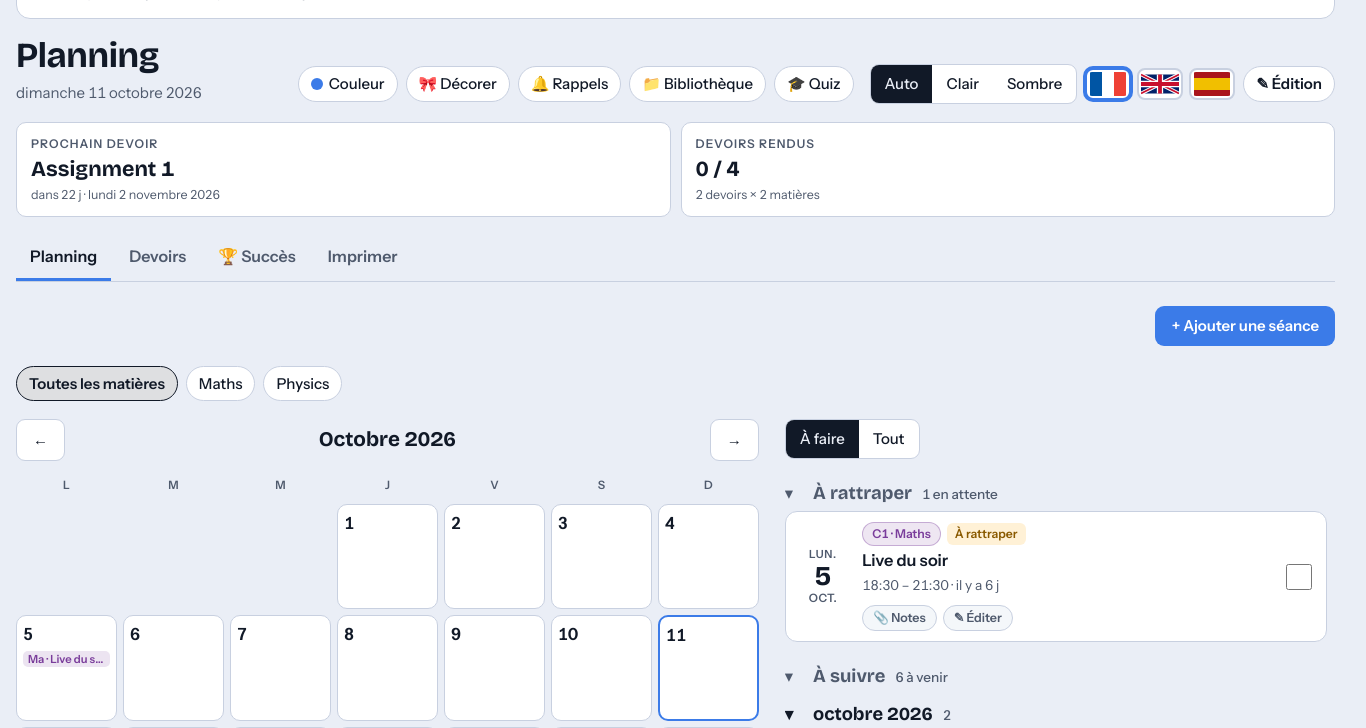
Test: planning › the subject filter narrows the list
(page scrolled)
What coordinates should you click on to do the following:
click the button "Physics"
I would click on:
 (303, 384)
Its box is [264,366,342,402].
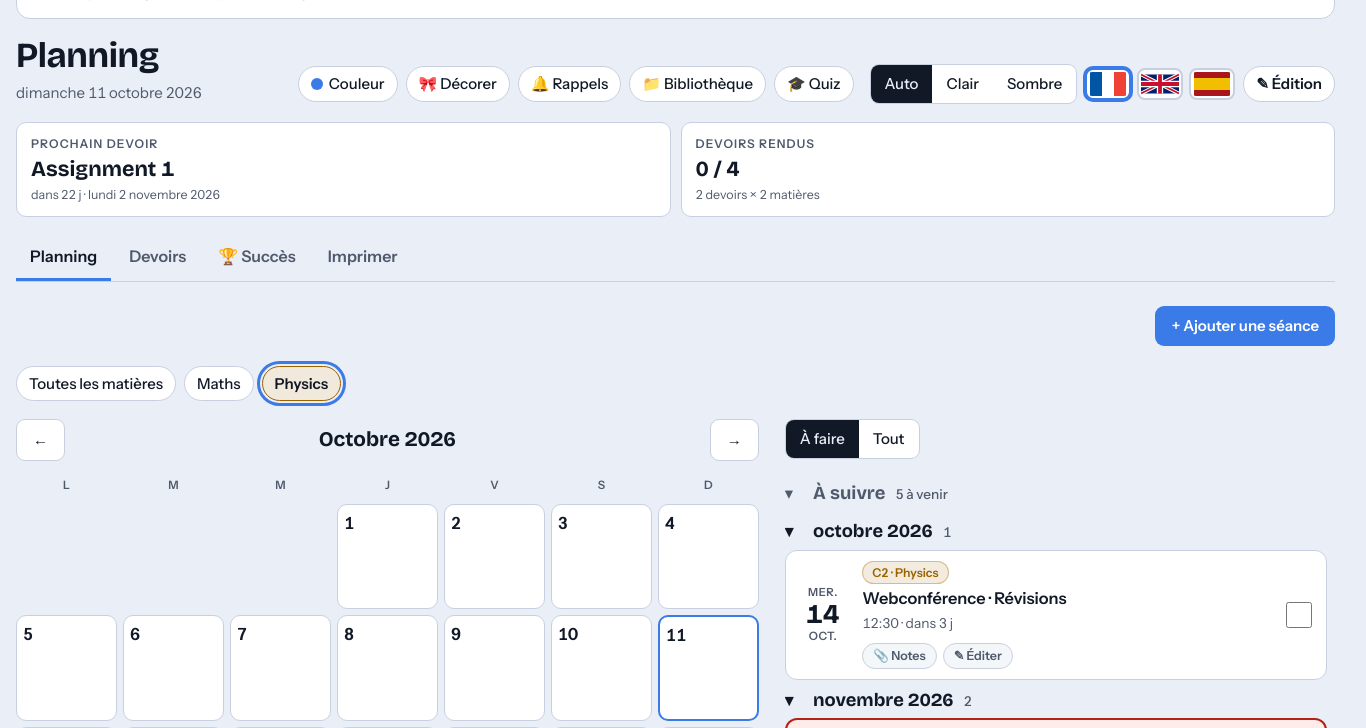
What coordinates should you click on to do the following:
click the button "Toutes les matières"
I would click on:
 (96, 384)
Its box is [16,366,176,402].
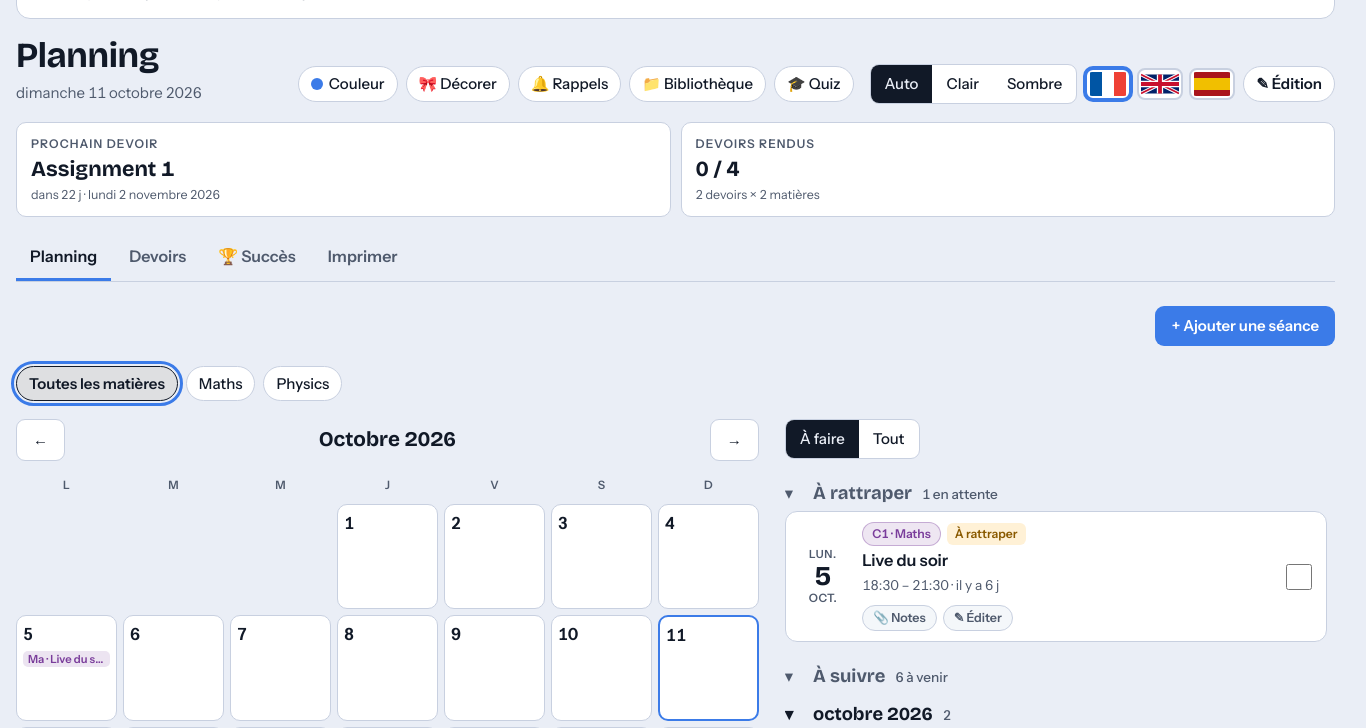
Expected: the number of checkboxes is 3
